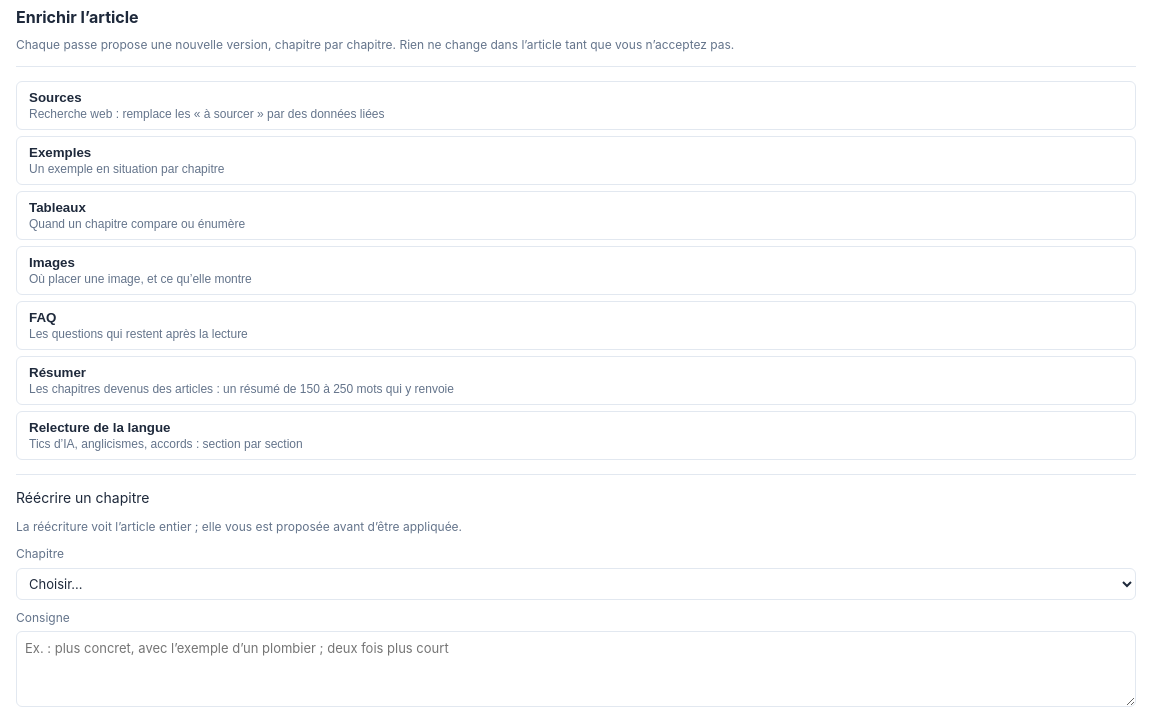
EnrichmentPanel › réécrire : il faut choisir un chapitre et donner une consigne
Select "Les étapes" in the dropdown with test id "rewrite-chapter" at (576, 584), box [16,568,1136,600]
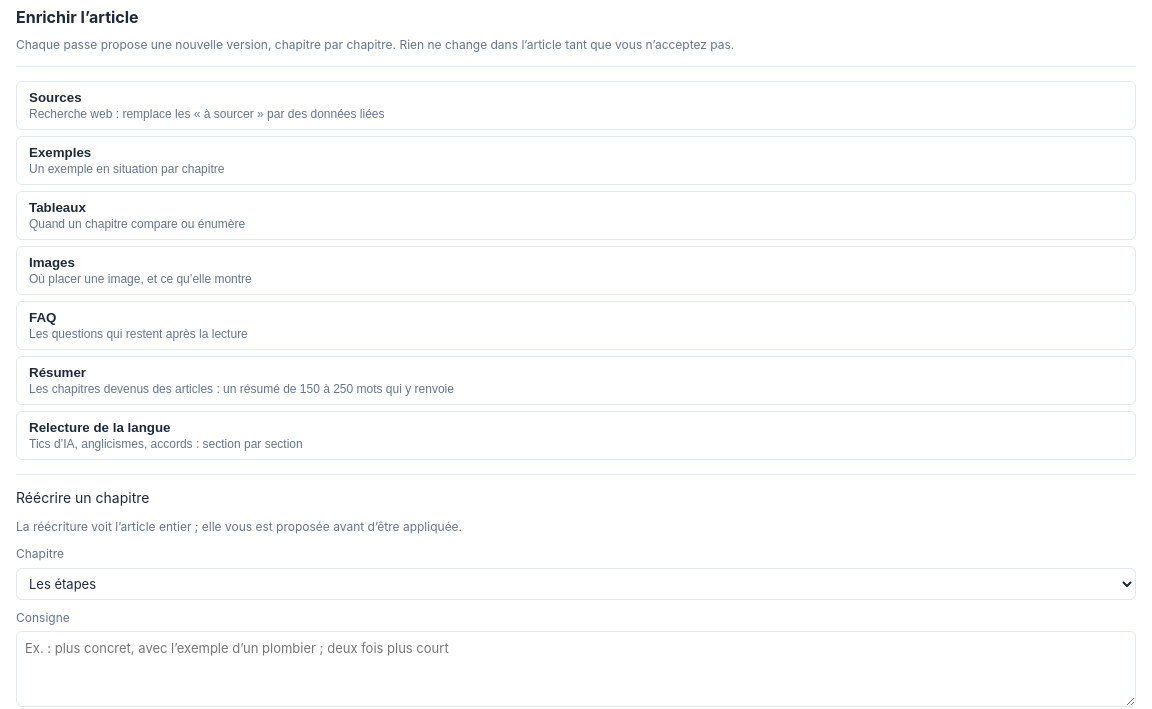
Replace the text in the text box with test id "rewrite-instruction" with "ok" at (576, 669), box [16,631,1136,707]
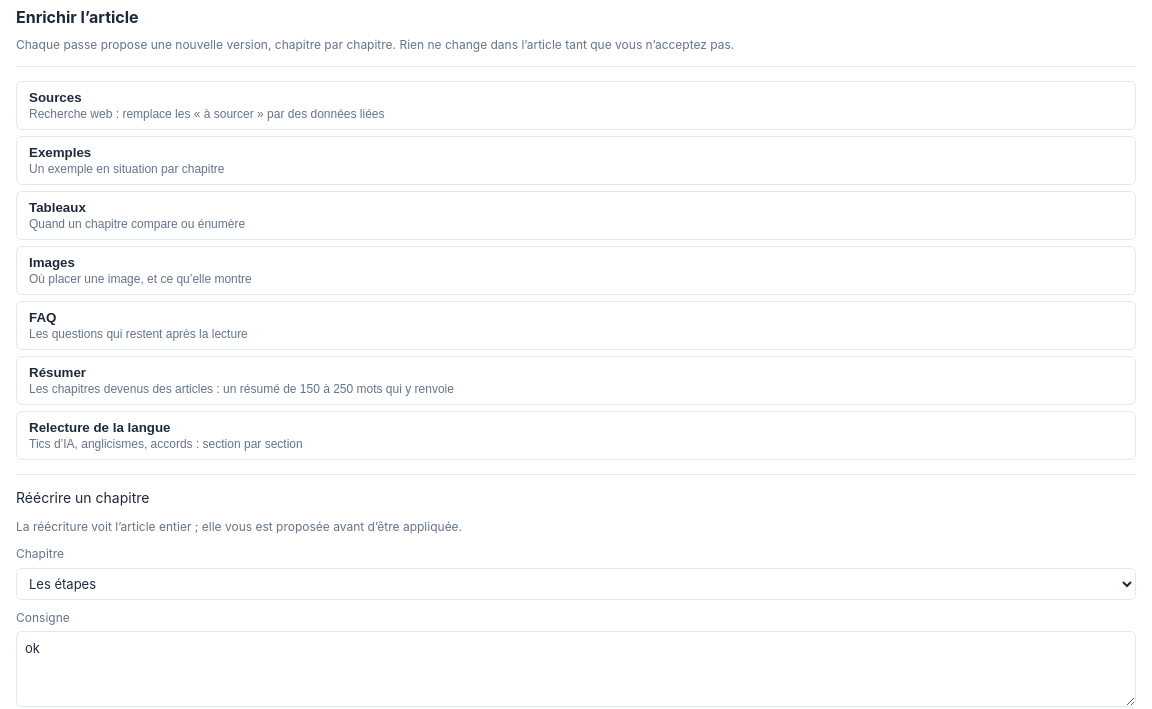
Replace the text in the text box with test id "rewrite-instruction" with "Plus direct, avec un exemple" at (576, 669), box [16,631,1136,707]
(page scrolled)
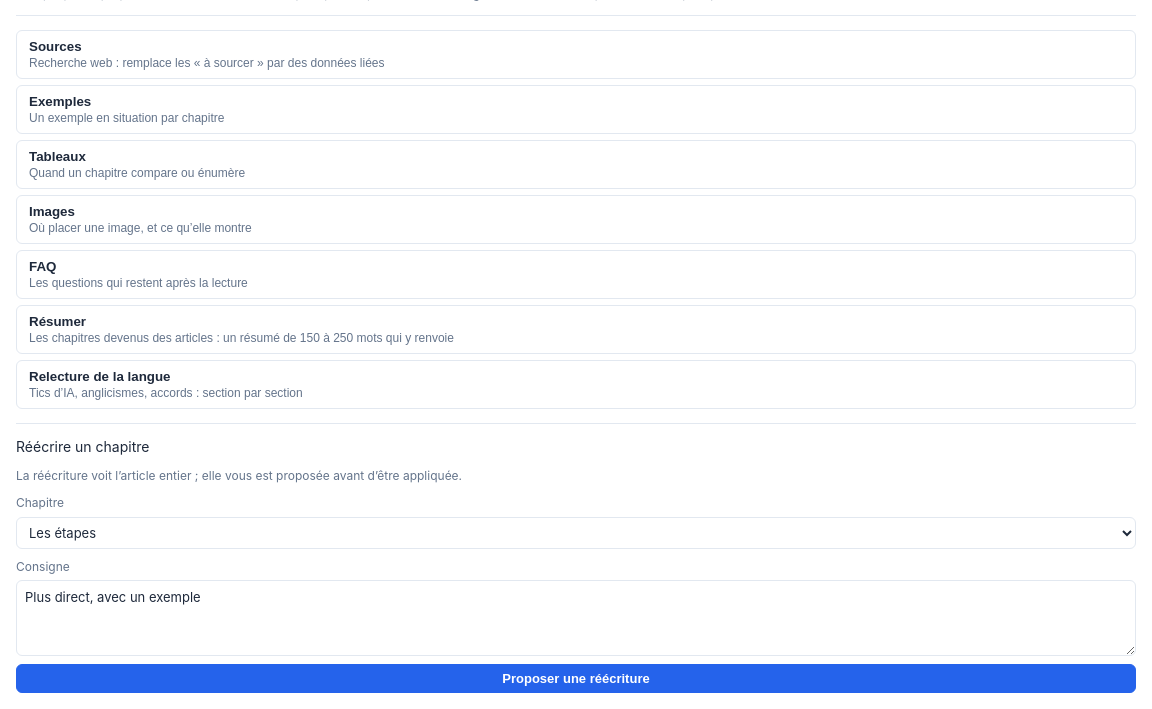
Expected: the button with test id "rewrite-submit" is enabled, [16,664,1136,693]
